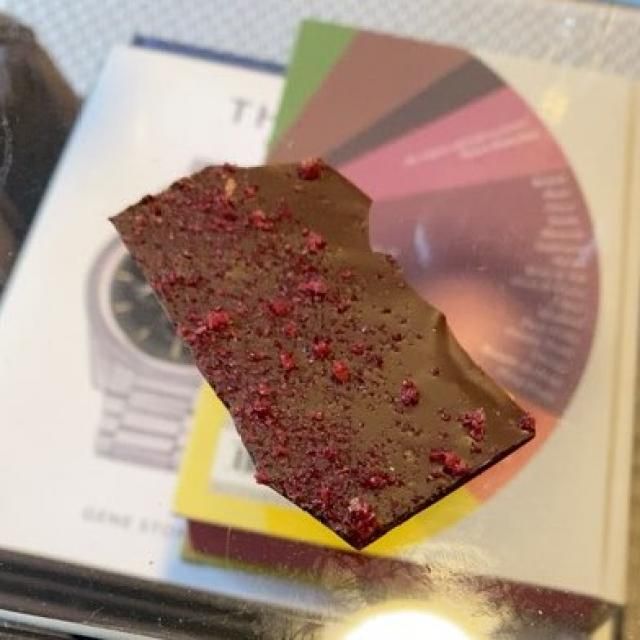chocolate: (113, 161, 523, 530)
